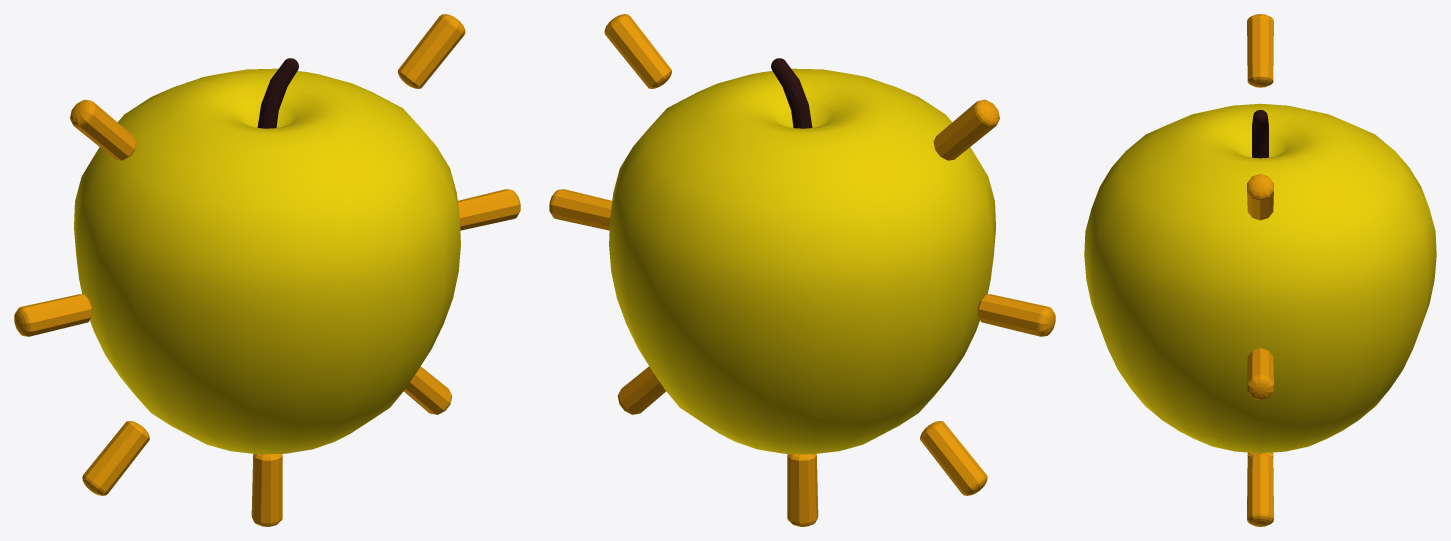
File: Fruit_Awake_comb.fbx
3 views of the same model, side by side, from view 1: azimuth 30°, elevation 25°; view 2: azimuth 150°, elevation 25°; view 3: azimuth 270°, elevation 25° (orthographic). The views are drawn at different scales.
Visible parts, largest first — view 1: Fruit_main, Fruit_sparkle, Fruit_top1; view 2: Fruit_main, Fruit_sparkle, Fruit_top1; view 3: Fruit_main, Fruit_sparkle, Fruit_top1.
Part boxes in pixels (<box>): Fruit_main: <box>74,68,460,454</box>; Fruit_sparkle: <box>14,14,520,526</box>; Fruit_top1: <box>257,58,298,128</box>; Fruit_main: <box>609,68,995,454</box>; Fruit_sparkle: <box>549,14,1055,526</box>; Fruit_top1: <box>771,58,812,128</box>; Fruit_main: <box>1084,103,1436,453</box>; Fruit_sparkle: <box>1247,14,1273,526</box>; Fruit_top1: <box>1252,109,1268,158</box>.
Size of the model in its own units: 12.16 by 10.86 by 8.2.
